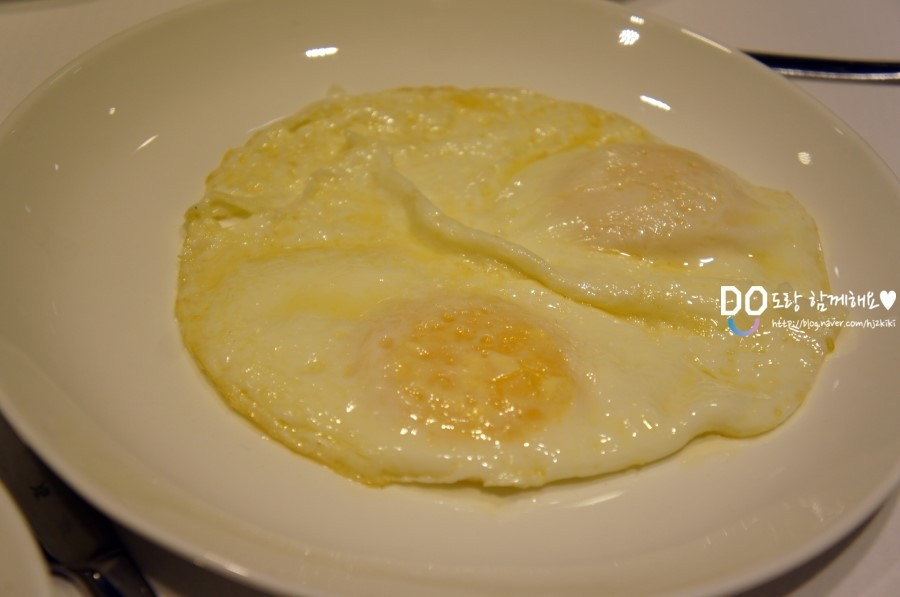fried egg: (209, 125, 818, 443)
